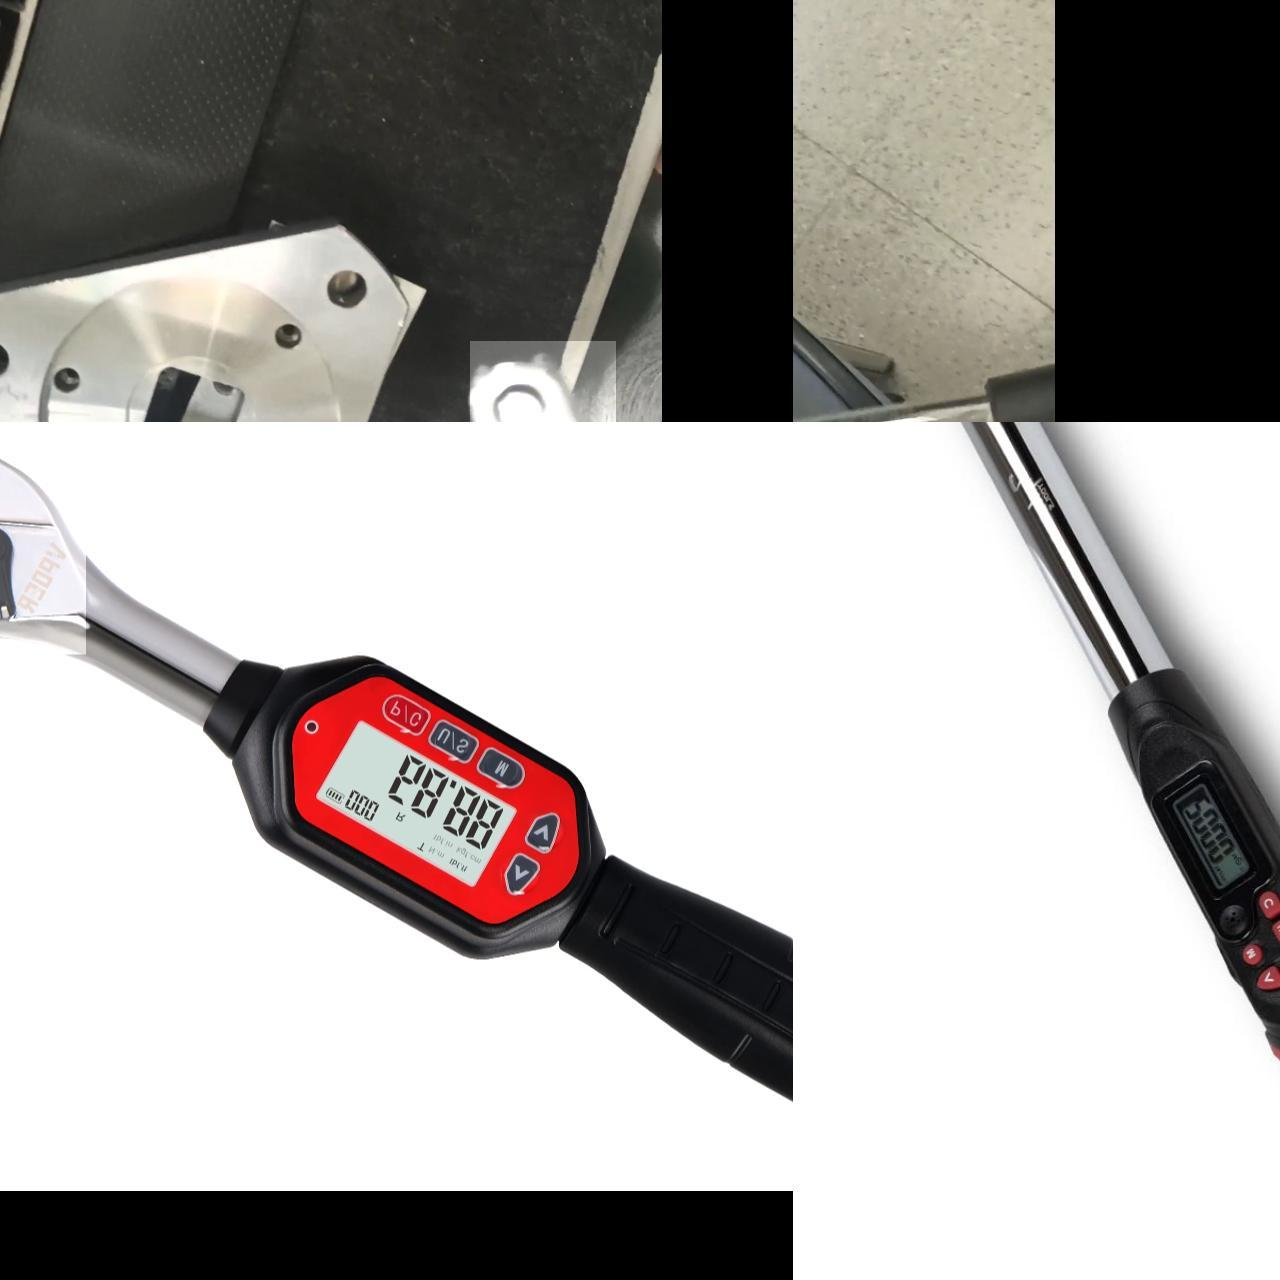Tool: (0, 422, 86, 654), (470, 340, 617, 422)
